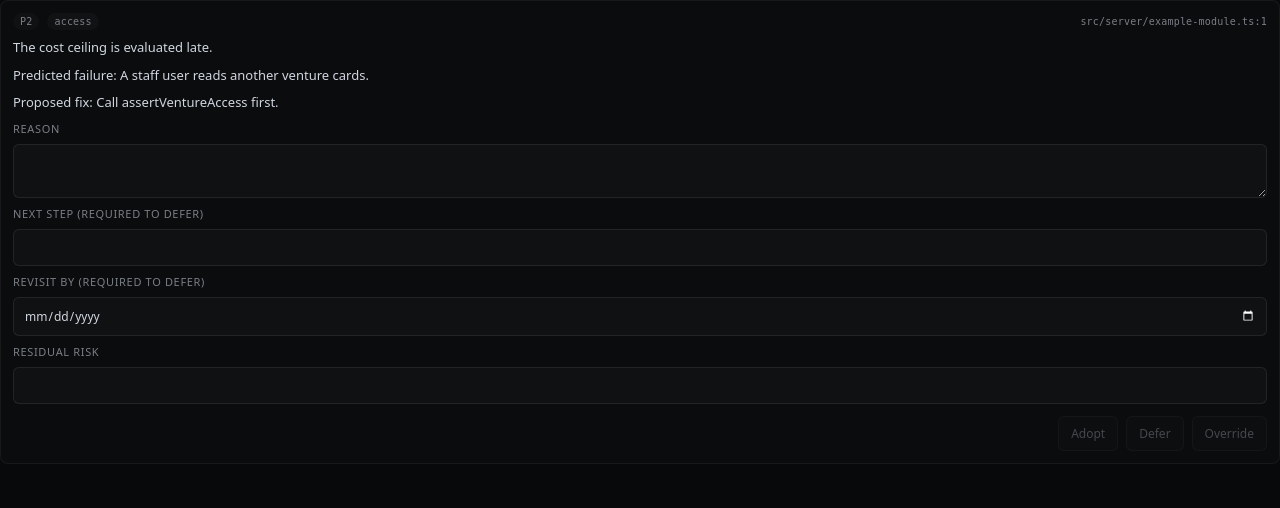
Test: the findings panel › fetches the gate's real assignments and seeds ruledByOrgAgentId from the registered builder, never a guess
Expected: the text "The cost ceiling is evaluated late." is shown, top-left (13, 38), bottom-right (213, 56)
Step 1. Type "Fair." into the text box labelled "Reason" → [640, 170], box top-left (13, 144), bottom-right (1267, 198)
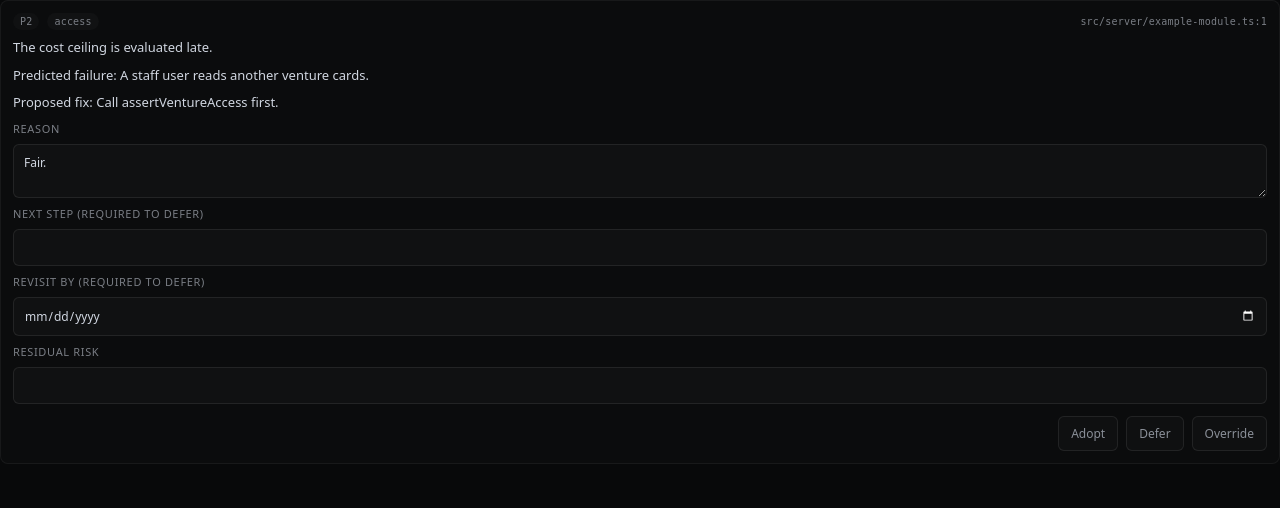
Step 2. Click the button "Adopt" → [1088, 433], box top-left (1058, 416), bottom-right (1118, 450)
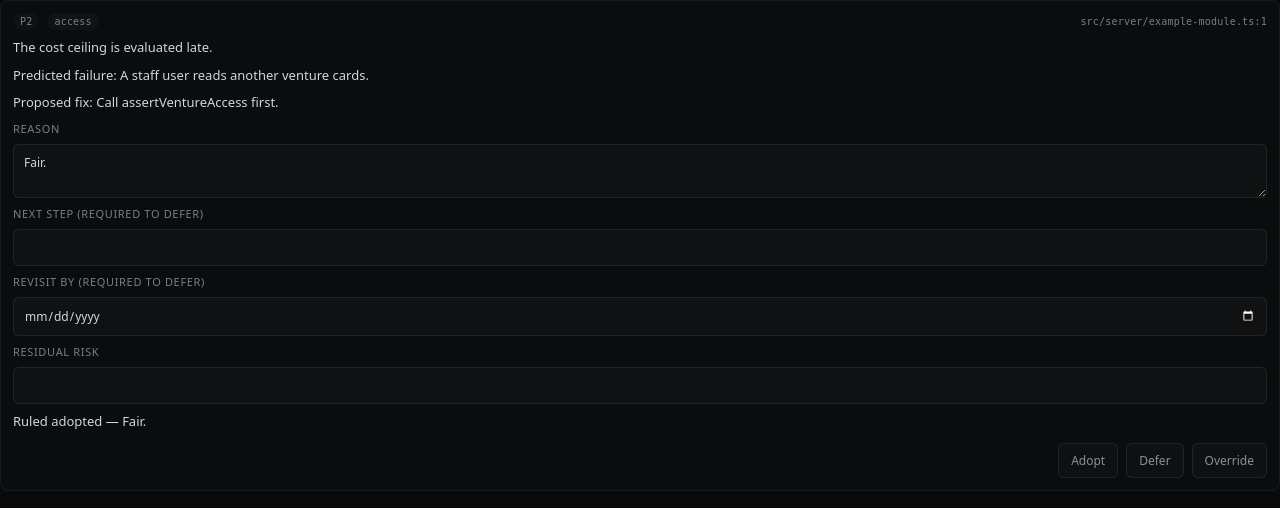
Expected: the text "Ruled adopted — Fair." is shown, top-left (13, 412), bottom-right (146, 430)
